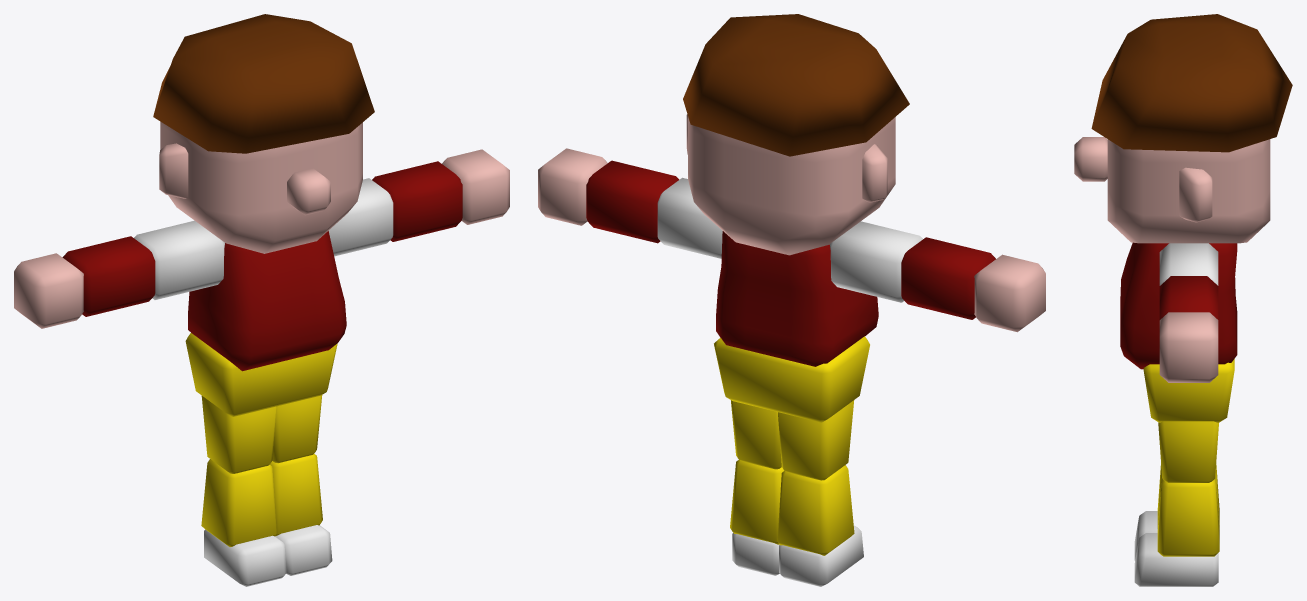
File: ColoredVisitor.fbx
The picture shows the model from 3 angles, left to right: view 1: azimuth 30°, elevation 25°; view 2: azimuth 150°, elevation 25°; view 3: azimuth 270°, elevation 25°; orthographic projection. The views are drawn at different scales.
Visible parts, largest first — view 1: Cube.022, Spine, Head, Bedra, Cube.007, Cube.004, Cube.001, RHand, Cube.006, RLeg, Cube.003, Cube.010 (+6 smaller); view 2: Cube.022, Head, Spine, Bedra, Cube.007, Cube.004, Cube.001, RHand, Cube.006, RLeg, Cube.003, Cube.010 (+5 smaller); view 3: Cube.022, Head, Spine, Cube.010, Cube.003, Bedra, LLeg, Cube.012, Cube.001, LHand, Cube.016, Cube.018 (+1 smaller).
Boxes of the visible parts, box(x1,y1,x2,y2) form: Cube.022: box(153, 14, 374, 153); Spine: box(188, 231, 346, 371); Head: box(160, 121, 362, 253); Bedra: box(185, 333, 337, 416); Cube.007: box(201, 459, 276, 546); Cube.004: box(62, 236, 155, 316); Cube.001: box(372, 161, 462, 241); RHand: box(134, 220, 224, 299); Cube.006: box(14, 253, 83, 328); RLeg: box(201, 396, 276, 473); Cube.003: box(442, 149, 509, 224); Cube.010: box(270, 454, 322, 536); Cube.022: box(683, 14, 909, 156); Head: box(688, 116, 895, 255); Spine: box(716, 231, 878, 366); Bedra: box(714, 336, 869, 422); Cube.007: box(777, 465, 854, 555); Cube.004: box(901, 237, 995, 319); Cube.001: box(586, 160, 679, 243); RHand: box(829, 221, 922, 302); Cube.006: box(974, 254, 1045, 332); RLeg: box(778, 400, 854, 480); Cube.003: box(538, 148, 607, 225); Cube.010: box(730, 460, 784, 544); Cube.022: box(1091, 14, 1292, 152); Head: box(1107, 139, 1270, 243); Spine: box(1120, 242, 1237, 369); Cube.010: box(1157, 473, 1219, 556); Cube.003: box(1159, 312, 1218, 382); Bedra: box(1143, 359, 1234, 422); LLeg: box(1158, 421, 1218, 482); Cube.012: box(1134, 533, 1218, 586); Cube.001: box(1159, 276, 1218, 319); LHand: box(1159, 243, 1218, 285); Cube.016: box(1179, 167, 1212, 222); Cube.018: box(1074, 137, 1107, 181).
Bounding box in the file's own units: 1899 × 1975 × 744.
